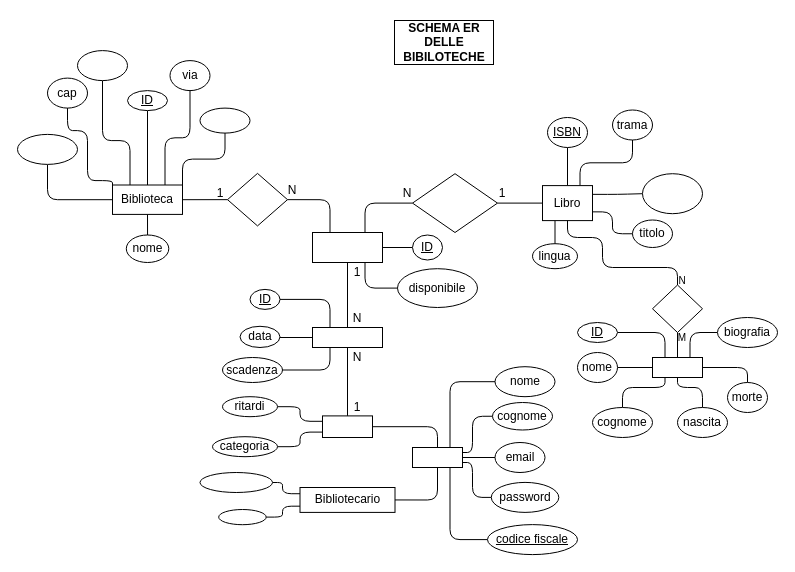
Image size: 795x572. Some labels were removed from this diagram. Here are the shapes that lost their labels. From the top down, the centre of each, then its label:
At point 102,65: "citta'".
At point 224,120: "civico".
At point 47,148: "provincia".
At point 257,199: "Contiene".
At point 455,202: "Rappresenta".
At point 672,193: "casa editrice".
At point 347,247: "Copia".
At point 677,308: "Scritto".
At point 347,337: "Prestito".
At point 677,367: "Autore".
At point 347,426: "Lettore".
At point 437,457: "Utente".
At point 235,482: "assunzione".
At point 242,516: "sede".
